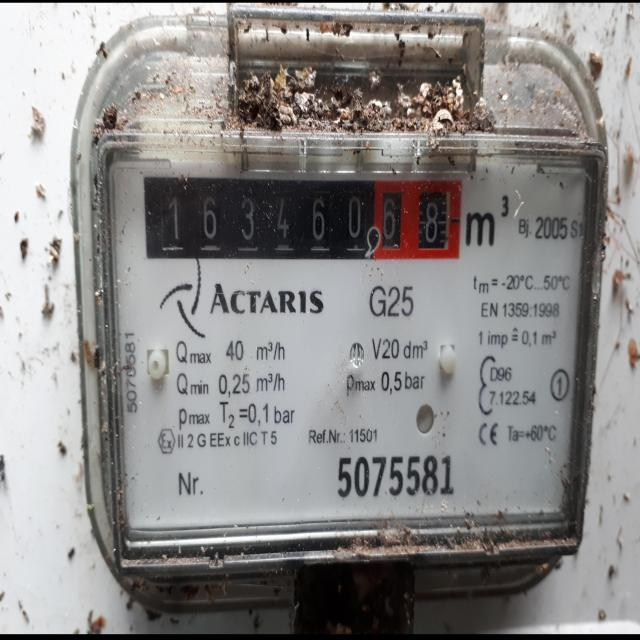gaz_meter: (102, 140, 588, 537)
indication: (145, 173, 463, 261)
